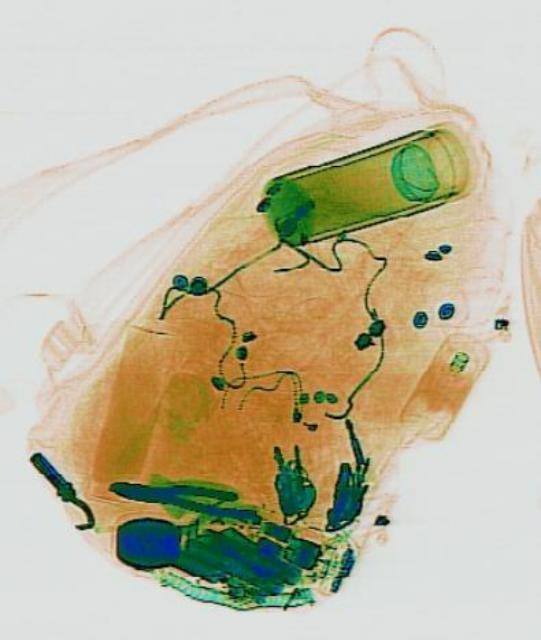Pliers: (105, 470, 257, 520)
